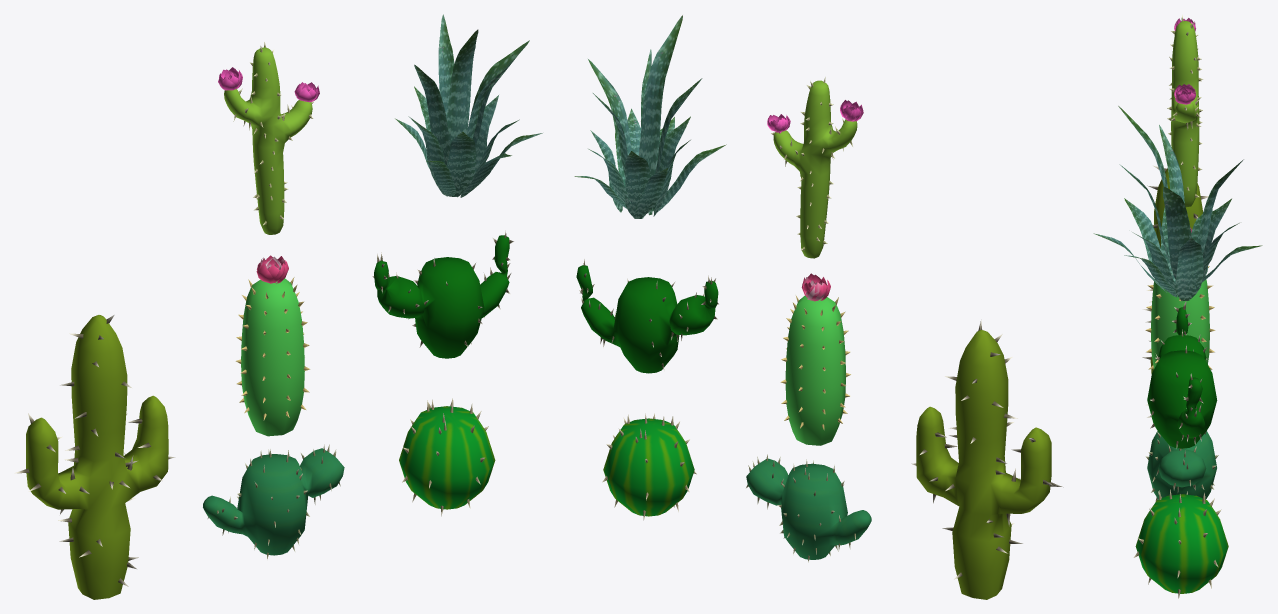
The model's file is cactus plant.fbx.
The picture shows the model from 3 angles, left to right: view 1: azimuth 30°, elevation 25°; view 2: azimuth 150°, elevation 25°; view 3: azimuth 270°, elevation 25°; orthographic projection. The views are drawn at different scales.
Visible parts, largest first — view 1: Object_7, Object_10, Object_9, Object_8, Object_4, Object_3, Object_5; view 2: Object_7, Object_10, Object_9, Object_8, Object_4, Object_3, Object_5; view 3: Object_10, Object_3, Object_8, Object_5, Object_4, Object_9, Object_7.
Boxes of the visible parts, x1,y1,x2,y2 form: Object_7: [14, 315, 175, 599]; Object_10: [395, 14, 542, 197]; Object_9: [235, 255, 310, 436]; Object_8: [372, 230, 513, 358]; Object_4: [203, 444, 344, 559]; Object_3: [399, 398, 495, 516]; Object_5: [218, 42, 319, 234]; Object_7: [911, 320, 1063, 599]; Object_10: [574, 15, 726, 218]; Object_9: [780, 273, 851, 445]; Object_8: [576, 259, 718, 373]; Object_4: [746, 454, 871, 562]; Object_3: [602, 413, 696, 520]; Object_5: [767, 77, 863, 258]; Object_10: [1093, 105, 1262, 301]; Object_3: [1133, 489, 1228, 598]; Object_8: [1147, 301, 1217, 448]; Object_5: [1167, 15, 1203, 207]; Object_4: [1145, 431, 1218, 501]; Object_9: [1145, 227, 1215, 369]; Object_7: [1142, 158, 1208, 417].
Size of the model in its own units: 9907 by 9609 by 3017.
Materials: 7 (7 with a texture image).
